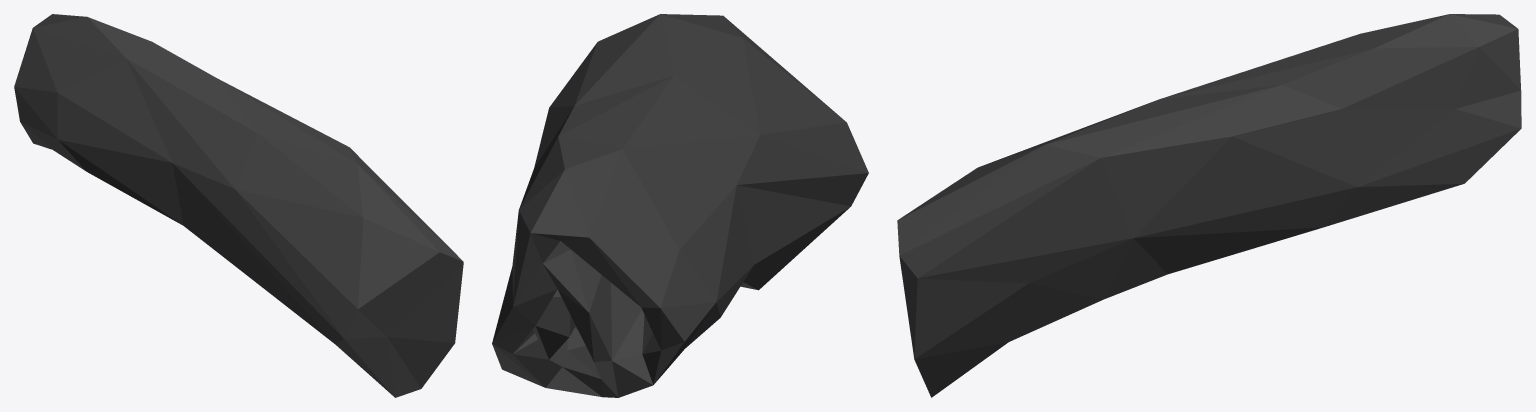
3 renders of one model, left to right at view 1: azimuth 30°, elevation 25°; view 2: azimuth 150°, elevation 25°; view 3: azimuth 270°, elevation 25°, orthographic. The views are drawn at different scales.
Visible parts, largest first — view 1: world; view 2: world; view 3: world.
Part boxes in pixels (x1,y1,x2,y2): world: (14, 14, 463, 397); world: (492, 14, 868, 397); world: (897, 14, 1521, 397).
Size of the model in its own units: 0.1983 by 0.2086 by 0.3814.
Materials: 1 (1 with a texture image).
